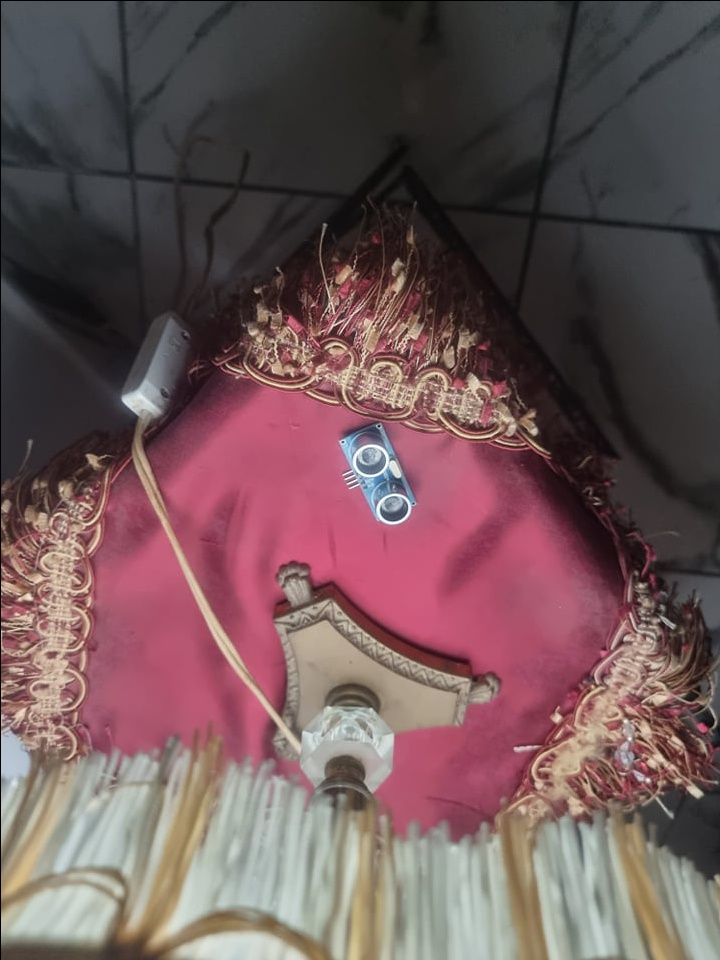SENSOR: (338, 421, 415, 525)
